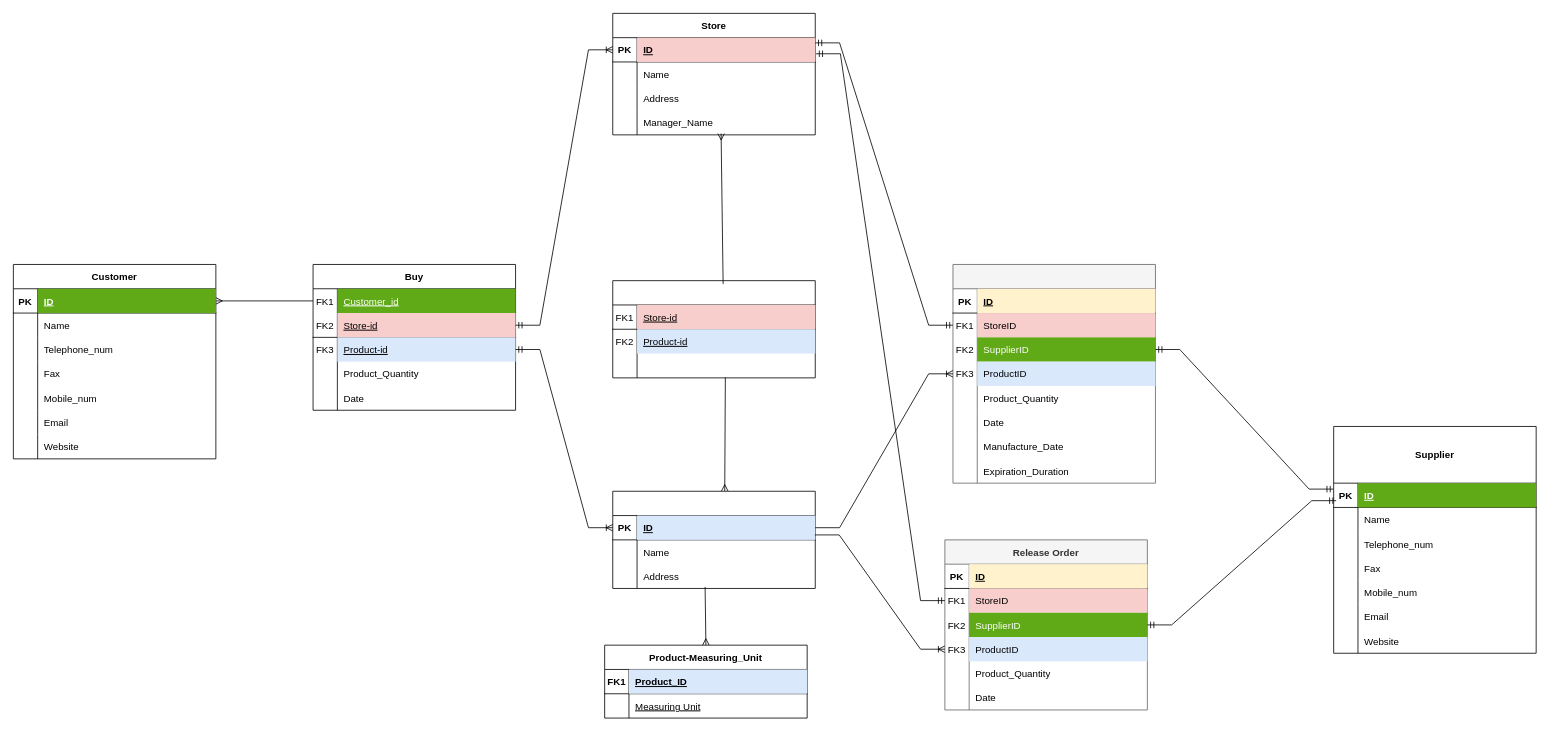
This 1550x731 diagram has some shape labels left out. The box of each missing label's shape, as (x1, y1, x2, y2) in pixels:
Product: (612, 490, 815, 588)
Store-Product: (612, 280, 815, 378)
Supply Order: (952, 264, 1155, 483)
